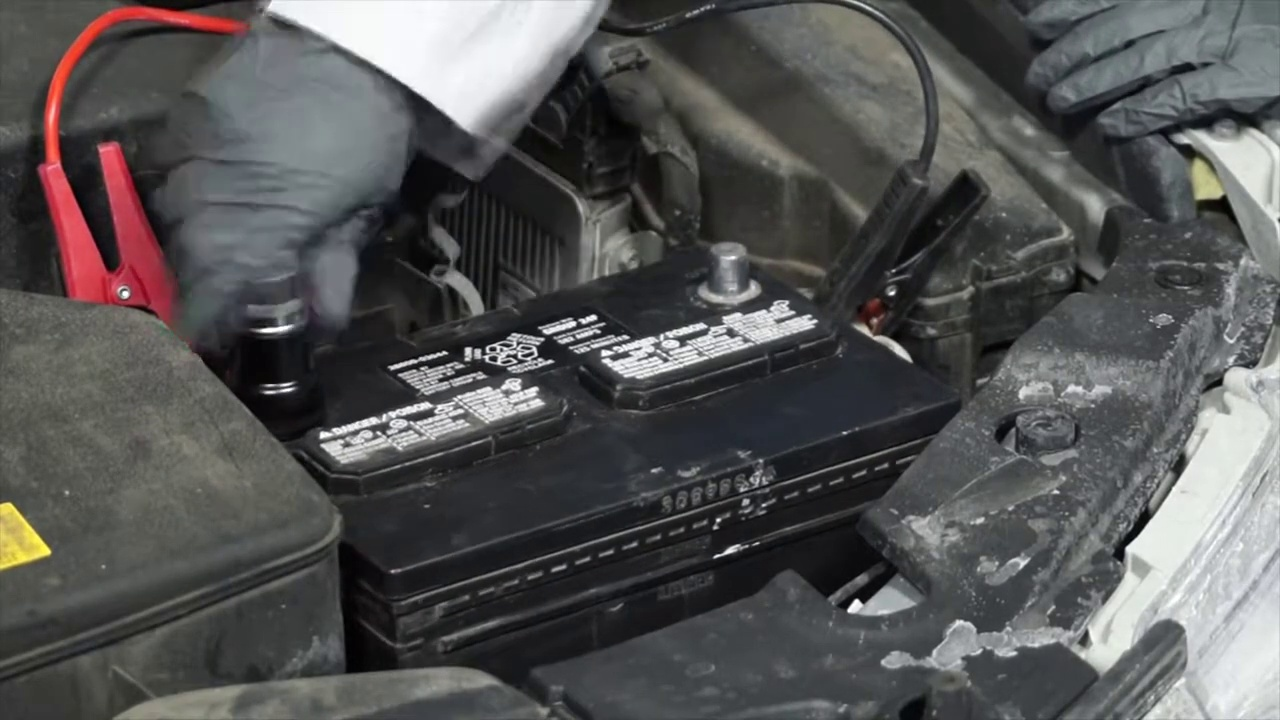battery: (65, 187, 943, 484)
neg_disconnected: (681, 193, 781, 321)
pos_touched: (45, 172, 369, 374)
